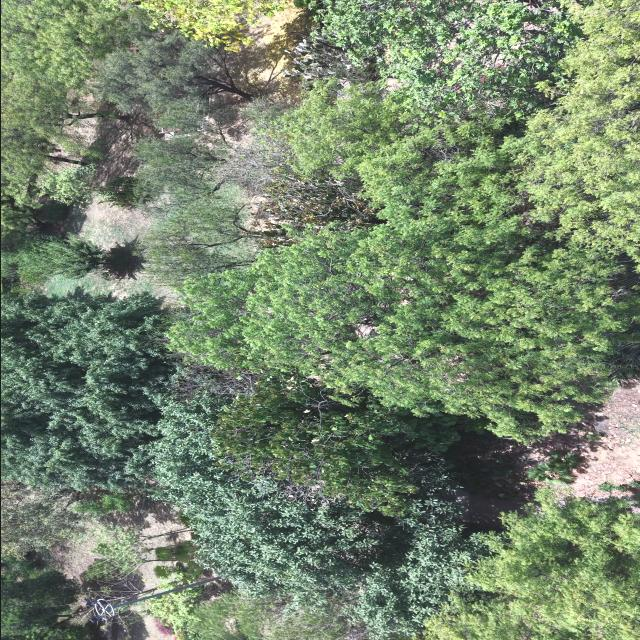DRY_AREA: (456, 381, 639, 527), (468, 382, 639, 503), (505, 382, 639, 508), (41, 198, 177, 301), (42, 198, 174, 298), (41, 197, 171, 297), (558, 382, 639, 499), (96, 615, 171, 639)
VEGETATION_TREE: (1, 0, 639, 639), (153, 0, 638, 635), (170, 0, 638, 439), (169, 218, 638, 438), (153, 397, 478, 635), (1, 293, 158, 639), (95, 33, 253, 285), (208, 373, 459, 512), (1, 293, 171, 489), (1, 0, 147, 228), (301, 87, 533, 227), (423, 491, 639, 639), (519, 0, 639, 258), (318, 0, 579, 116), (134, 122, 262, 286), (78, 523, 219, 635), (273, 81, 430, 178), (95, 34, 252, 125), (1, 0, 136, 86), (139, 200, 262, 286), (252, 173, 384, 246), (1, 77, 129, 147), (134, 125, 227, 217), (190, 593, 366, 639), (217, 96, 292, 196), (1, 556, 90, 639), (138, 0, 283, 47), (1, 479, 87, 557), (1, 570, 87, 639), (86, 525, 194, 579), (71, 573, 158, 631), (283, 34, 377, 87), (39, 165, 136, 207), (1, 134, 87, 180), (19, 236, 111, 278), (141, 586, 213, 636), (86, 542, 176, 579), (96, 525, 192, 551), (527, 451, 580, 486), (73, 491, 133, 515), (1, 193, 37, 229), (1, 555, 47, 579), (16, 625, 89, 639), (153, 617, 192, 636), (36, 202, 67, 222), (598, 480, 639, 491)
